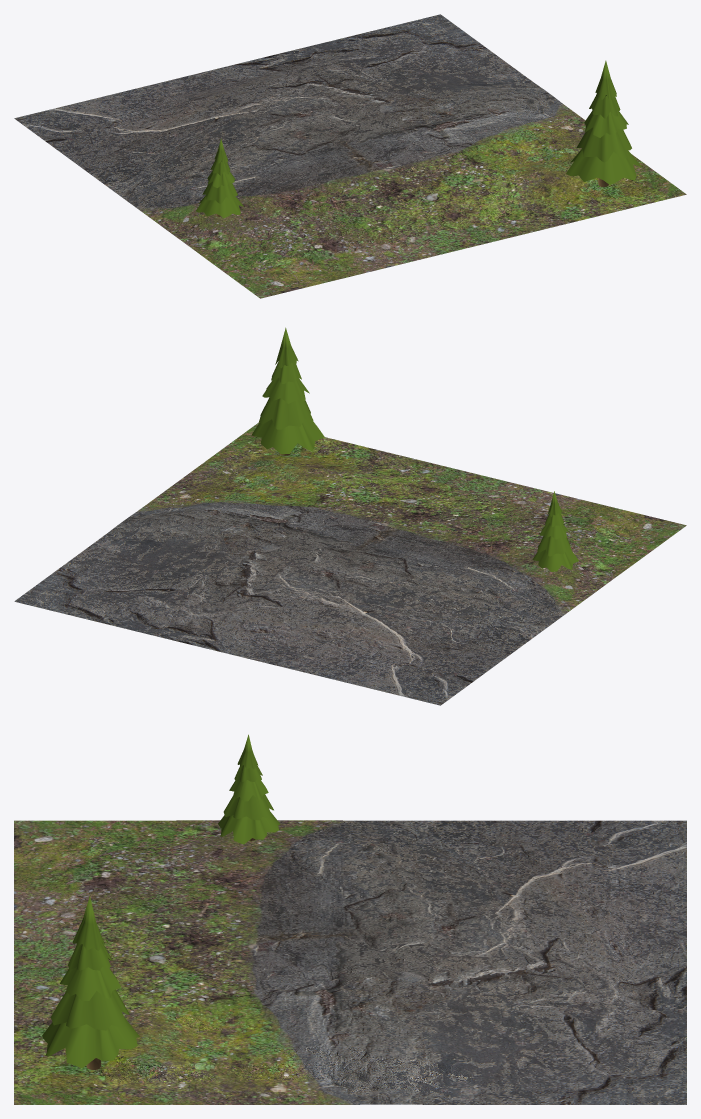
The model's file is MMFF.fbx.
3 renders of one model, top to bottom at view 1: azimuth 30°, elevation 25°; view 2: azimuth 150°, elevation 25°; view 3: azimuth 270°, elevation 25°, orthographic. The views are drawn at different scales.
Visible parts, largest first — view 1: Plane, Resource_PineTree_Group.031, Resource_PineTree_Group.032, Resource_PineTree_Group.033, Resource_PineTree_Group.005, Resource_PineTree_Group.004, Resource_PineTree_Group.034, Resource_PineTree_Group.035; view 2: Plane, Resource_PineTree_Group.031, Resource_PineTree_Group.032, Resource_PineTree_Group.033, Resource_PineTree_Group.005; view 3: Plane, Resource_PineTree_Group.031, Resource_PineTree_Group.032, Resource_PineTree_Group.033, Resource_PineTree_Group.005, Resource_PineTree_Group.004, Resource_PineTree_Group.034, Resource_PineTree_Group.035, Resource_PineTree_Group.003.
Boxes of the visible parts, box(x1,y1,x2,y2) form: Plane: box(14, 14, 686, 298); Resource_PineTree_Group.031: box(566, 149, 641, 184); Resource_PineTree_Group.032: box(576, 127, 631, 162); Resource_PineTree_Group.033: box(584, 110, 628, 137); Resource_PineTree_Group.005: box(196, 195, 243, 218); Resource_PineTree_Group.004: box(202, 181, 237, 203); Resource_PineTree_Group.034: box(589, 95, 620, 118); Resource_PineTree_Group.035: box(595, 60, 616, 99); Plane: box(14, 422, 686, 705); Resource_PineTree_Group.031: box(251, 419, 324, 454); Resource_PineTree_Group.032: box(259, 397, 313, 429); Resource_PineTree_Group.033: box(262, 377, 309, 403); Resource_PineTree_Group.005: box(532, 549, 578, 571); Plane: box(14, 820, 686, 1104); Resource_PineTree_Group.031: box(42, 1017, 139, 1068); Resource_PineTree_Group.032: box(51, 989, 129, 1030); Resource_PineTree_Group.033: box(59, 966, 121, 1000); Resource_PineTree_Group.005: box(218, 812, 280, 844); Resource_PineTree_Group.004: box(223, 794, 273, 820); Resource_PineTree_Group.034: box(68, 940, 112, 970); Resource_PineTree_Group.035: box(72, 896, 105, 950); Resource_PineTree_Group.003: box(229, 779, 268, 801).
Bounding box in the file's own units: 500 × 143 × 500.
